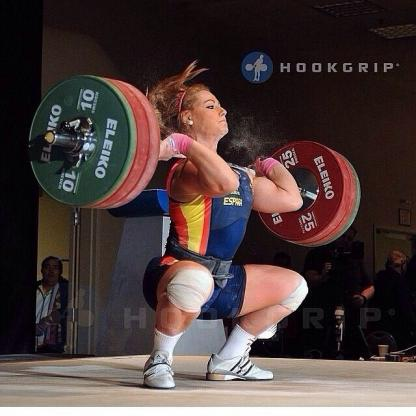barbell: (31, 76, 133, 208), (256, 140, 348, 245)
